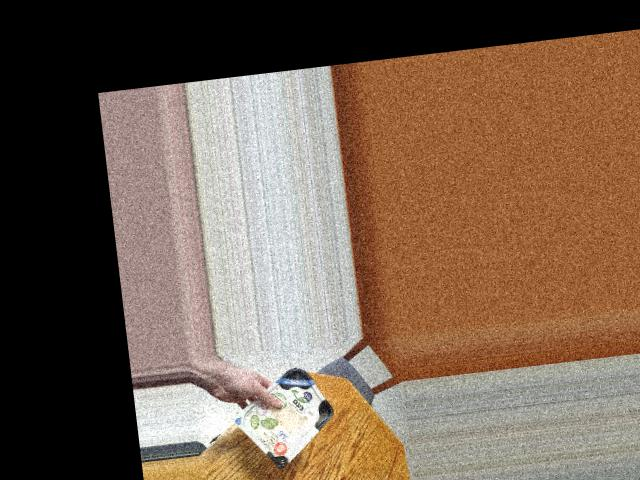cheese: (244, 361, 338, 463)
